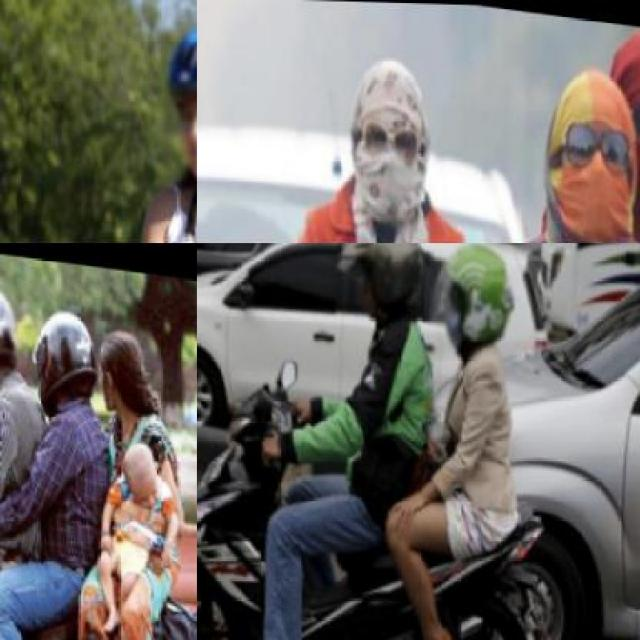With Helmet: (414, 243, 523, 366), (138, 5, 196, 202), (322, 243, 432, 332), (17, 302, 101, 408), (0, 268, 28, 388)
Without Helmet: (326, 40, 451, 238), (523, 60, 639, 242), (591, 18, 638, 214), (89, 316, 156, 422)
